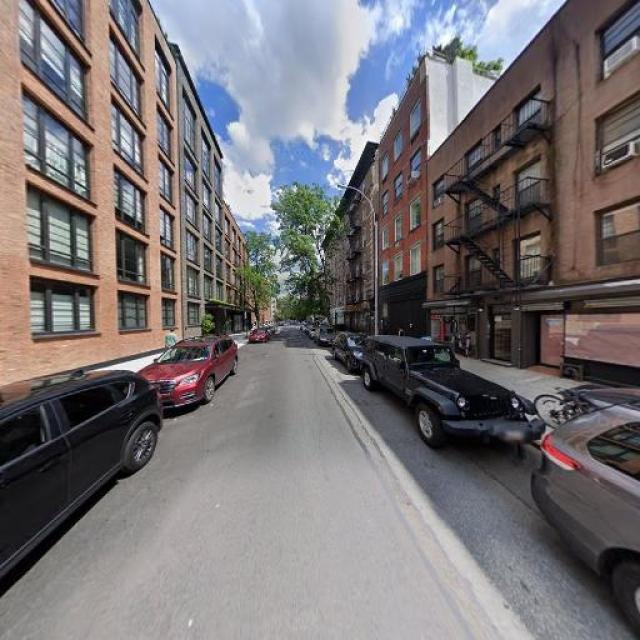Building: (429, 1, 640, 395), (1, 1, 178, 390), (382, 63, 426, 349)
